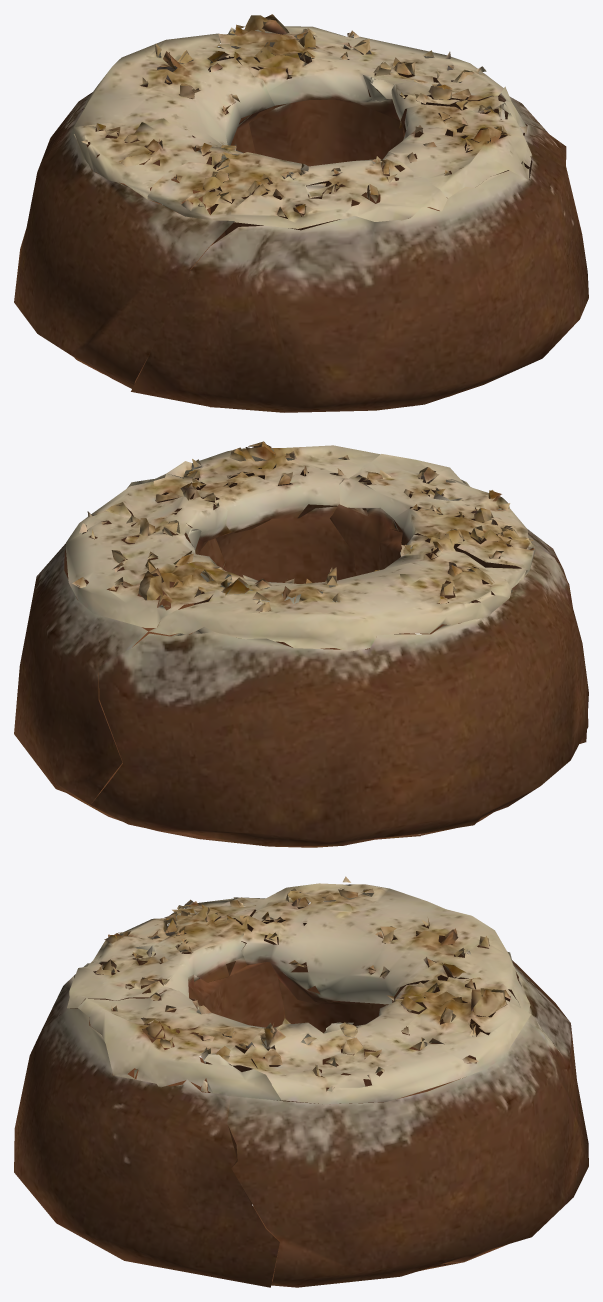
Rendered from ph_cake.glb.
3 views of the same model, one above another, from view 1: azimuth 30°, elevation 25°; view 2: azimuth 150°, elevation 25°; view 3: azimuth 270°, elevation 25° (orthographic). The views are drawn at different scales.
Parts seen in each view (by area): view 1: carrot_cake; view 2: carrot_cake; view 3: carrot_cake.
Boxes of the visible parts, left/top/right/bottom form: carrot_cake: left=14, top=14, right=588, bottom=412; carrot_cake: left=14, top=441, right=588, bottom=847; carrot_cake: left=14, top=876, right=588, bottom=1287.
Bounding box in the file's own units: 0.2253 × 0.0975 × 0.2251.
1 material, 1 textured.
